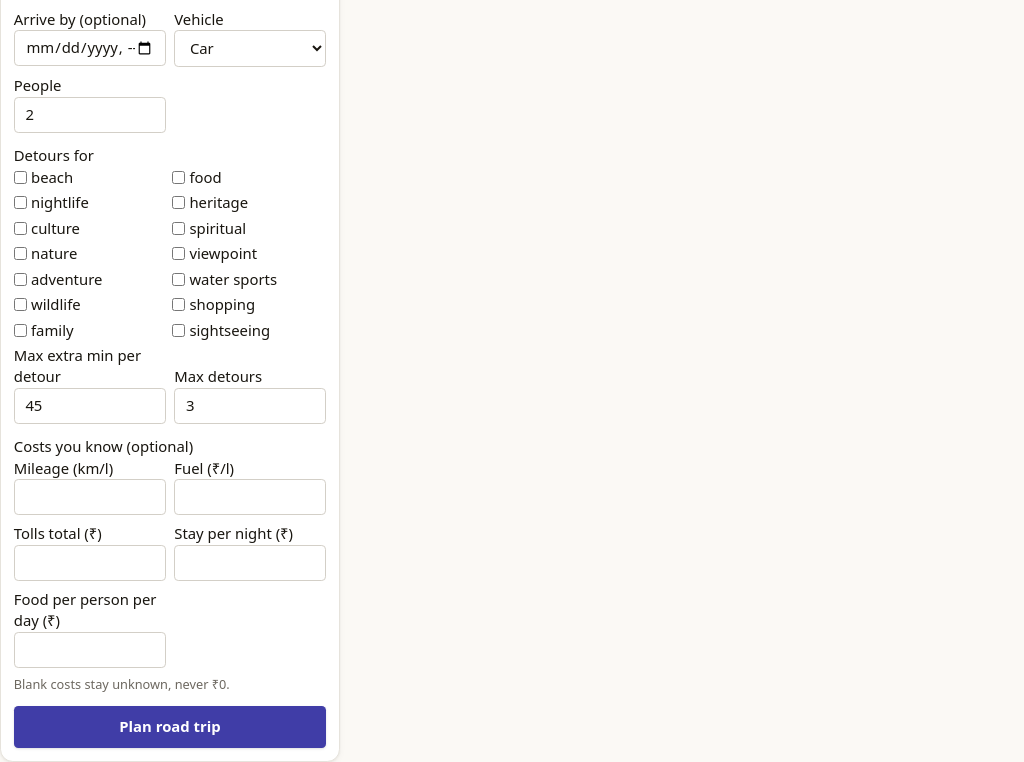
Test: explains an impossible arrival
This screenshot has width=1024, height=762.
(page scrolled)
Click the button "Plan road trip".
click(170, 727)  # box [14,706,326,748]
(page scrolled)
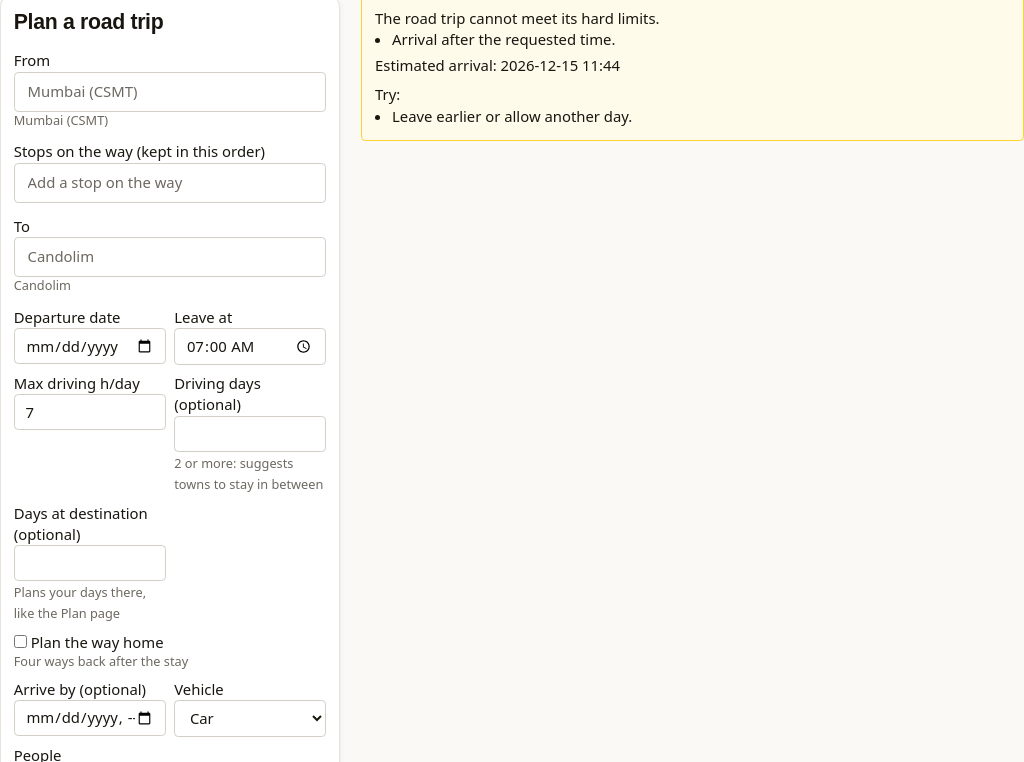
Check: the list item "Arrival after the requested time." is shown, box [392,29,615,49]
Check: the text "Estimated arrival: 2026-12-15 11:44" is shown, box [375,54,620,74]
Check: the list item "Leave earlier or allow another day." is shown, box [392,106,632,126]
